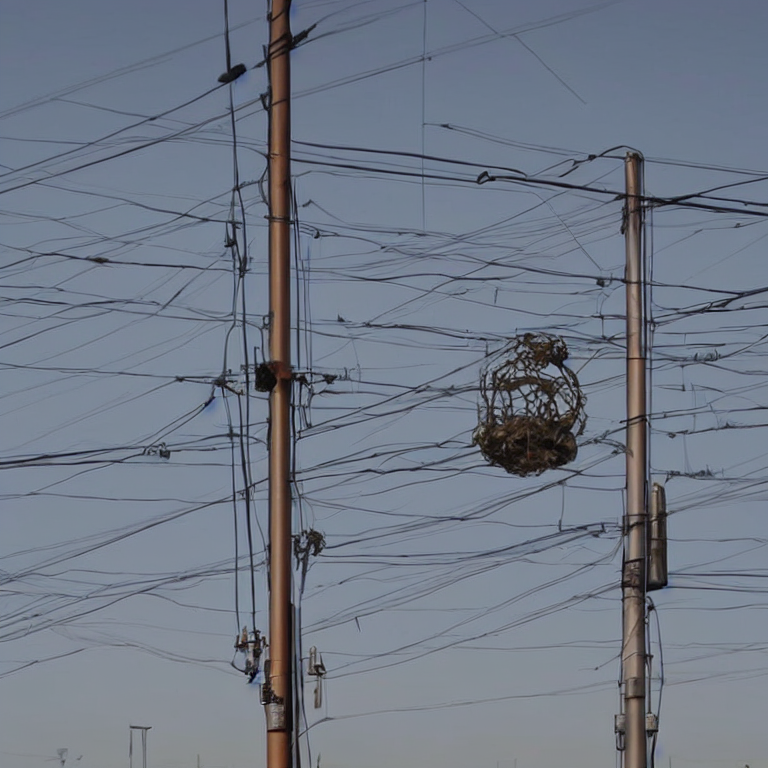nest: (477, 404, 578, 477)
